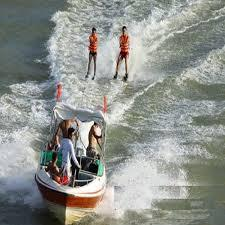Ship: (36, 103, 106, 210)
